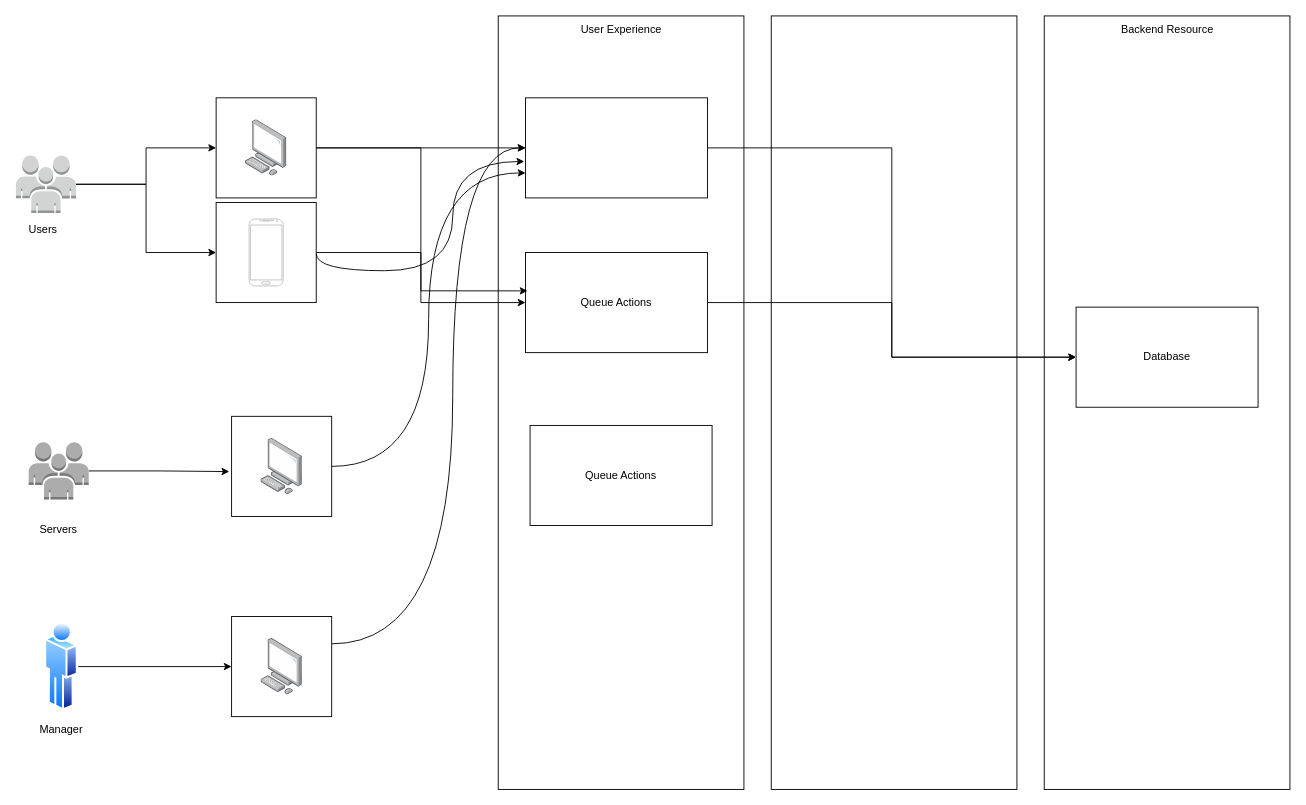
Image size: 1306x805. Some labels were removed from this diagram. Each missing label, with the centre of its shape:
Authentication: (616,147)
Middleware: (893,402)
